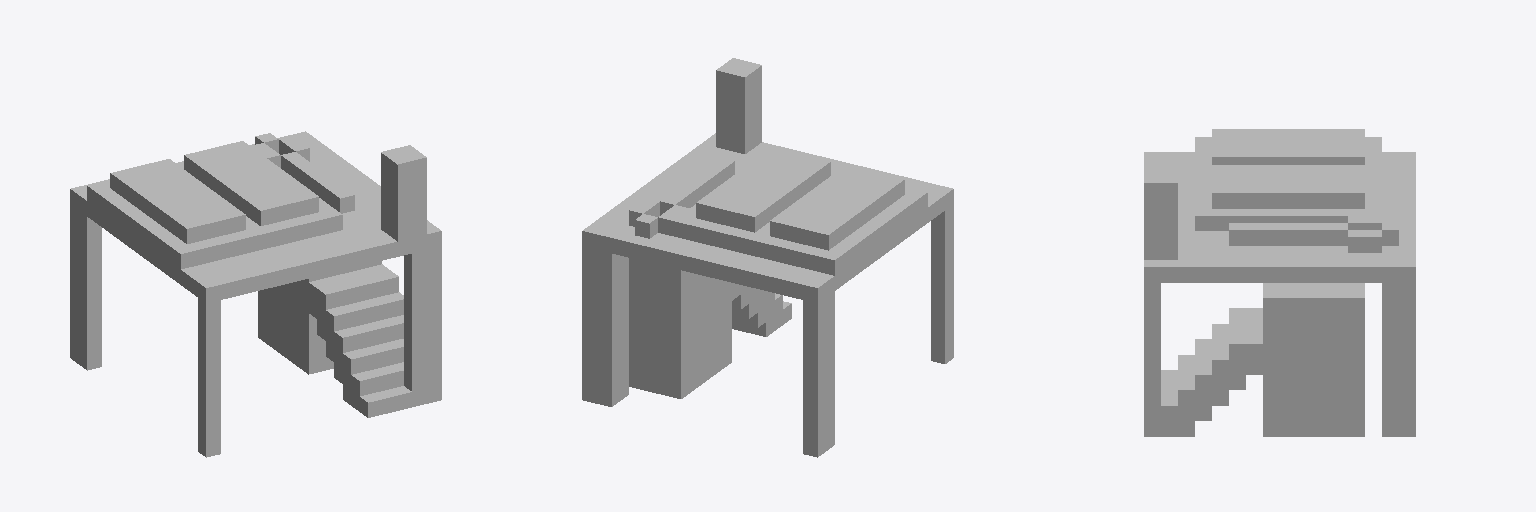
Rendered from writing_bookbinding_table.obj.
3 views of the same model, side by side, from view 1: azimuth 30°, elevation 25°; view 2: azimuth 150°, elevation 25°; view 3: azimuth 270°, elevation 25° (orthographic).
Visible parts, largest first — view 1: node_0_0_0; view 2: node_0_0_0; view 3: node_0_0_0.
Part boxes in pixels (x1,y1,x2,y2): node_0_0_0: (70,131,441,457); node_0_0_0: (582,58,953,457); node_0_0_0: (1144,129,1415,436).
Bounding box in the file's own units: 1 × 1 × 1.